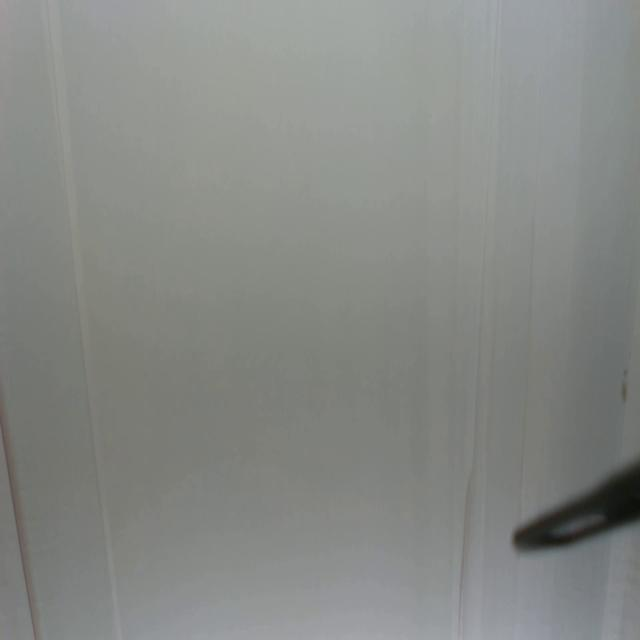crease: (47, 0, 122, 639), (458, 0, 500, 639), (518, 70, 542, 507), (0, 412, 38, 640)
